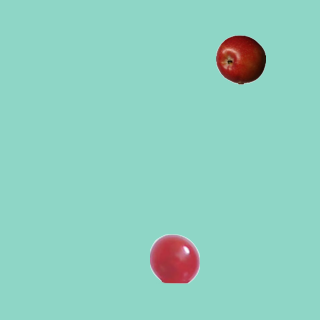Apple Braeburn: (215, 34, 265, 84)
Redcurrant: (149, 233, 199, 283)
